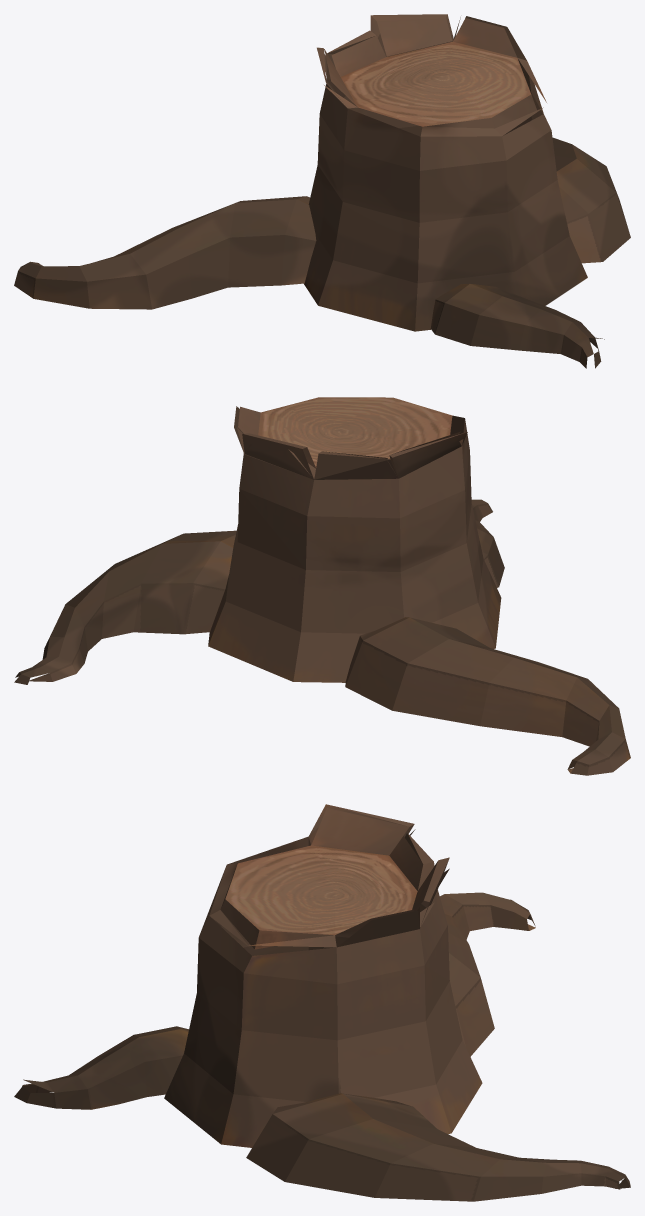
The model's file is tronk_new.glb.
3 views of the same model, one above another, from view 1: azimuth 30°, elevation 25°; view 2: azimuth 150°, elevation 25°; view 3: azimuth 270°, elevation 25° (orthographic). The views are drawn at different scales.
Parts seen in each view (by area): view 1: +tronk; view 2: +tronk; view 3: +tronk.
Part boxes in pixels (x1,y1,x2,y2): +tronk: (14, 14, 630, 368); +tronk: (14, 397, 630, 775); +tronk: (14, 804, 630, 1201).
Size of the model in its own units: 1.86 by 0.6937 by 1.67.
Materials: 1 (1 with a texture image).
